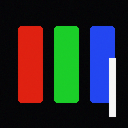4 line_v: (109, 58, 115, 116)
